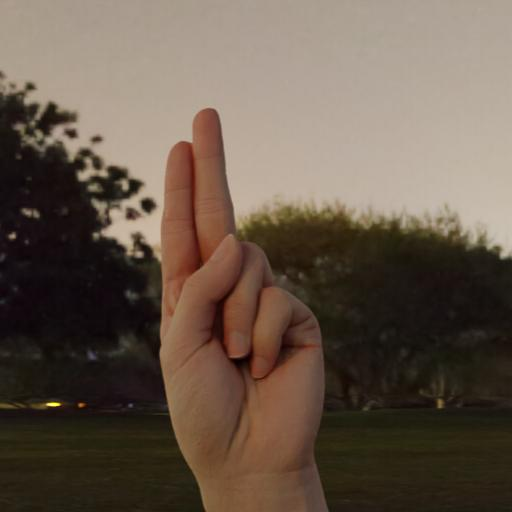U: (123, 89, 377, 512)
